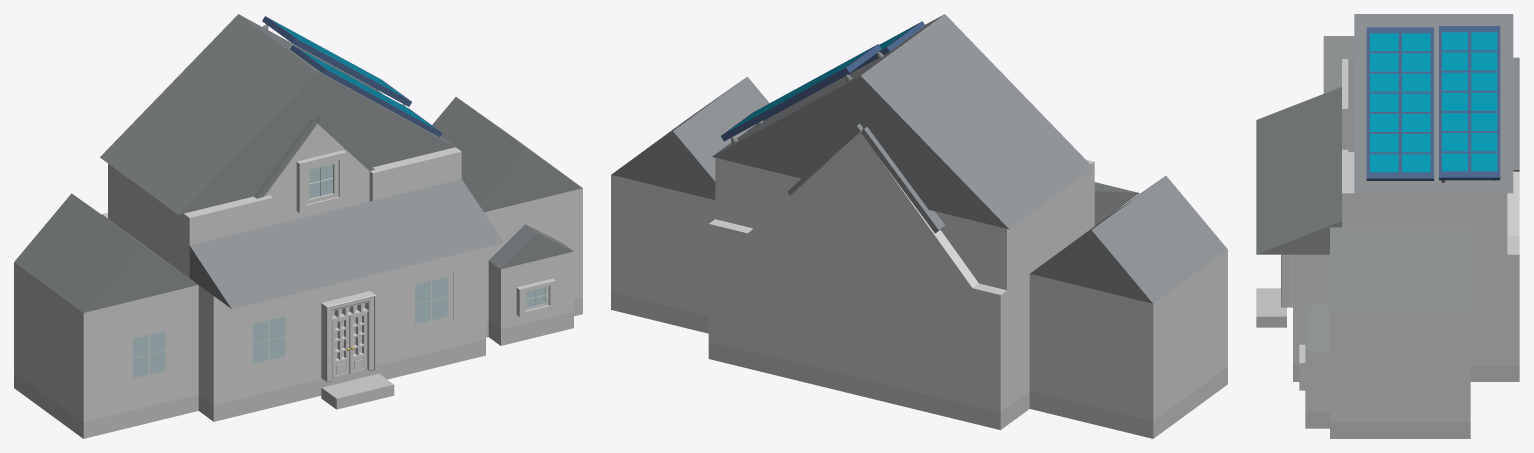
The model's file is Epic Fyyran.glb.
3 renders of one model, left to right at view 1: azimuth 30°, elevation 25°; view 2: azimuth 150°, elevation 25°; view 3: azimuth 270°, elevation 25°, orthographic. The views are drawn at different scales.
Parts seen in each view (by area): view 1: Mesh_Mesh_head_geo.001_lambert2SG.001; view 2: Mesh_Mesh_head_geo.001_lambert2SG.001; view 3: Mesh_Mesh_head_geo.001_lambert2SG.001.
Boxes of the visible parts, x1,y1,x2,y2 form: Mesh_Mesh_head_geo.001_lambert2SG.001: (14,14,582,438); Mesh_Mesh_head_geo.001_lambert2SG.001: (611,14,1227,438); Mesh_Mesh_head_geo.001_lambert2SG.001: (1256,14,1519,438).
Size of the model in its own units: 96 by 54 by 43.
